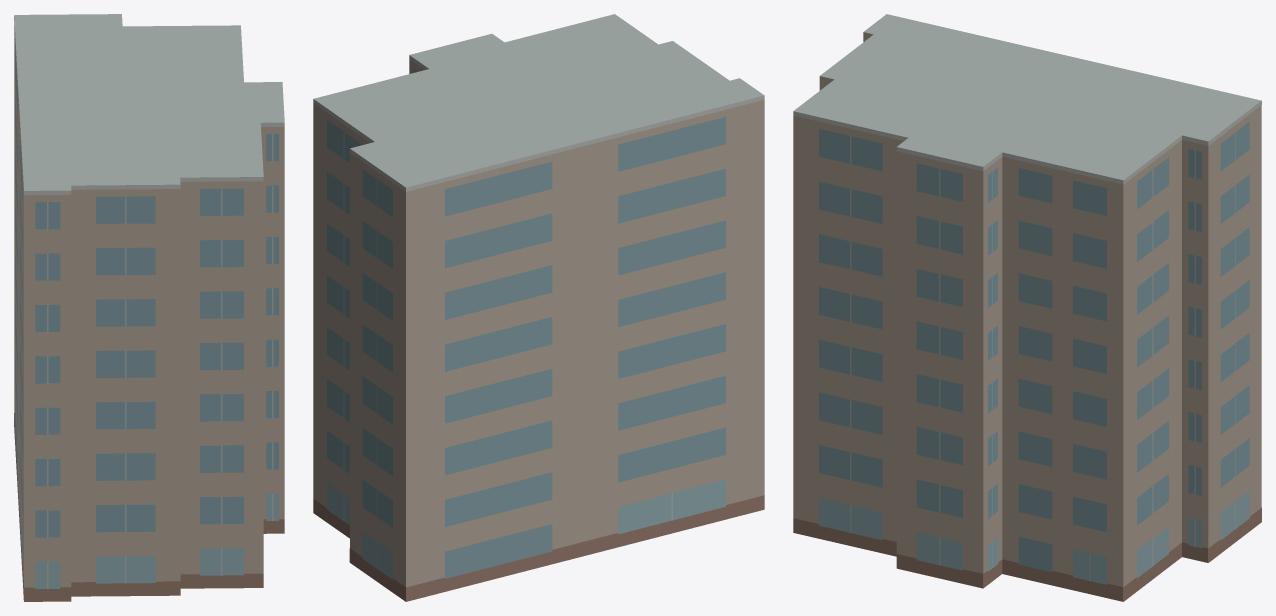
The model's file is survey-upis-32618764.glb.
3 views of the same model, side by side, from view 1: azimuth 30°, elevation 25°; view 2: azimuth 150°, elevation 25°; view 3: azimuth 270°, elevation 25° (orthographic). The views are drawn at different scales.
Visible parts, largest first — view 1: survey-upis-32618764.tmp; view 2: survey-upis-32618764.tmp; view 3: survey-upis-32618764.tmp.
Part boxes in pixels (left/top/right/bottom): survey-upis-32618764.tmp: left=14, top=14, right=284, bottom=601; survey-upis-32618764.tmp: left=313, top=14, right=764, bottom=601; survey-upis-32618764.tmp: left=793, top=14, right=1261, bottom=601.
Size of the model in its own units: 19.89 by 23.5 by 23.68.
